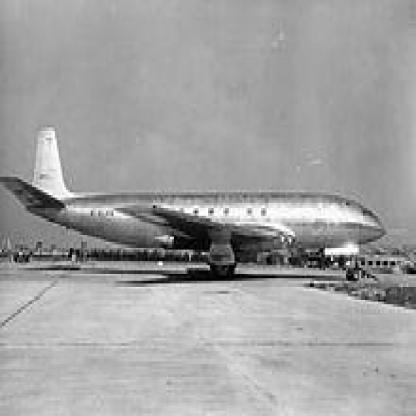CIV_Plane: (3, 118, 388, 271)
